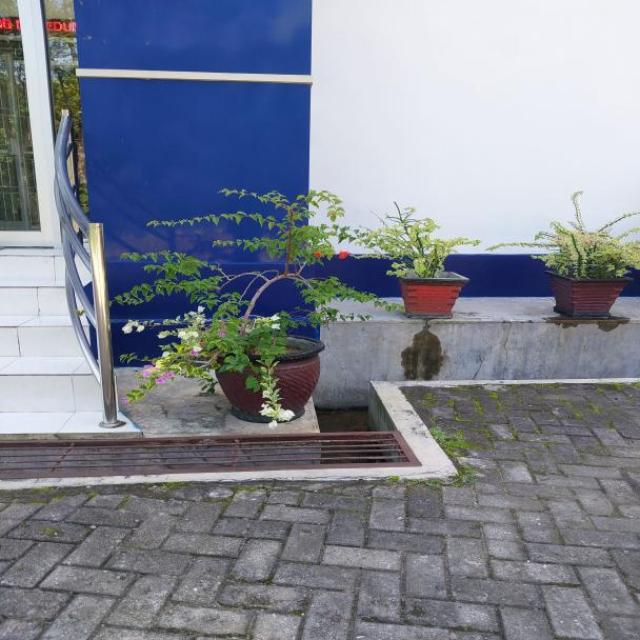plant ahead at: (136, 160, 344, 423), (497, 188, 638, 312), (364, 178, 467, 316)
